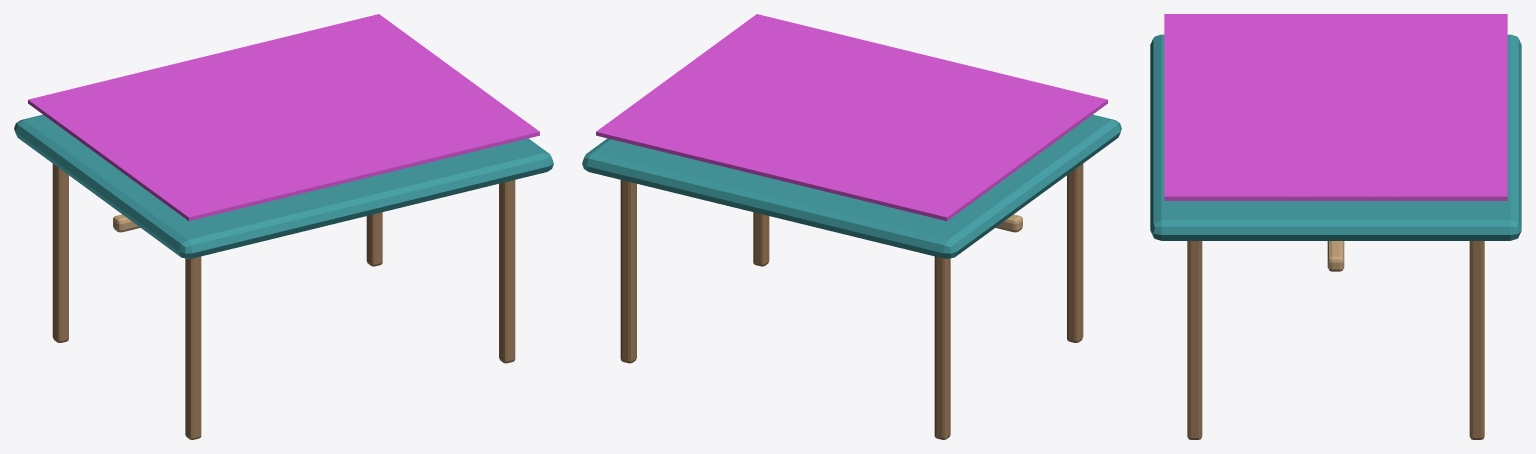
File: picnic_shelter_lod1_v1.glb
3 renders of one model, left to right at view 1: azimuth 30°, elevation 25°; view 2: azimuth 150°, elevation 25°; view 3: azimuth 270°, elevation 25°, orthographic. The views are drawn at different scales.
Parts seen in each view (by area): view 1: NAV_MASK_PICNIC_SHELTER, LOD1_PICNIC_SHELTER_Roof, LOD1_PICNIC_SHELTER_Post, LOD1_PICNIC_SHELTER_Post.002, LOD1_PICNIC_SHELTER_Post.001, LOD1_PICNIC_SHELTER_Post.003; view 2: NAV_MASK_PICNIC_SHELTER, LOD1_PICNIC_SHELTER_Roof, LOD1_PICNIC_SHELTER_Post.001, LOD1_PICNIC_SHELTER_Post.003, LOD1_PICNIC_SHELTER_Post, LOD1_PICNIC_SHELTER_Post.002; view 3: NAV_MASK_PICNIC_SHELTER, LOD1_PICNIC_SHELTER_Roof, LOD1_PICNIC_SHELTER_Post.002, LOD1_PICNIC_SHELTER_Post.003, LOD1_PICNIC_SHELTER_Beam.
Part boxes in pixels (box(x1,y1,x2,y2)): NAV_MASK_PICNIC_SHELTER: box(28, 14, 539, 220); LOD1_PICNIC_SHELTER_Roof: box(14, 114, 553, 258); LOD1_PICNIC_SHELTER_Post: box(185, 256, 201, 439); LOD1_PICNIC_SHELTER_Post.002: box(499, 180, 515, 363); LOD1_PICNIC_SHELTER_Post.001: box(52, 163, 68, 342); LOD1_PICNIC_SHELTER_Post.003: box(366, 212, 382, 266); NAV_MASK_PICNIC_SHELTER: box(596, 14, 1107, 220); LOD1_PICNIC_SHELTER_Roof: box(582, 114, 1121, 258); LOD1_PICNIC_SHELTER_Post.001: box(934, 256, 950, 439); LOD1_PICNIC_SHELTER_Post.003: box(620, 180, 636, 363); LOD1_PICNIC_SHELTER_Post: box(1067, 163, 1083, 342); LOD1_PICNIC_SHELTER_Post.002: box(753, 212, 769, 266); NAV_MASK_PICNIC_SHELTER: box(1164, 14, 1507, 200); LOD1_PICNIC_SHELTER_Roof: box(1150, 34, 1521, 240); LOD1_PICNIC_SHELTER_Post.002: box(1187, 241, 1202, 439); LOD1_PICNIC_SHELTER_Post.003: box(1469, 241, 1484, 439); LOD1_PICNIC_SHELTER_Beam: box(1327, 241, 1344, 271).
Size of what is drawn, in the model's own units: 6.2 by 3.73 by 5.
